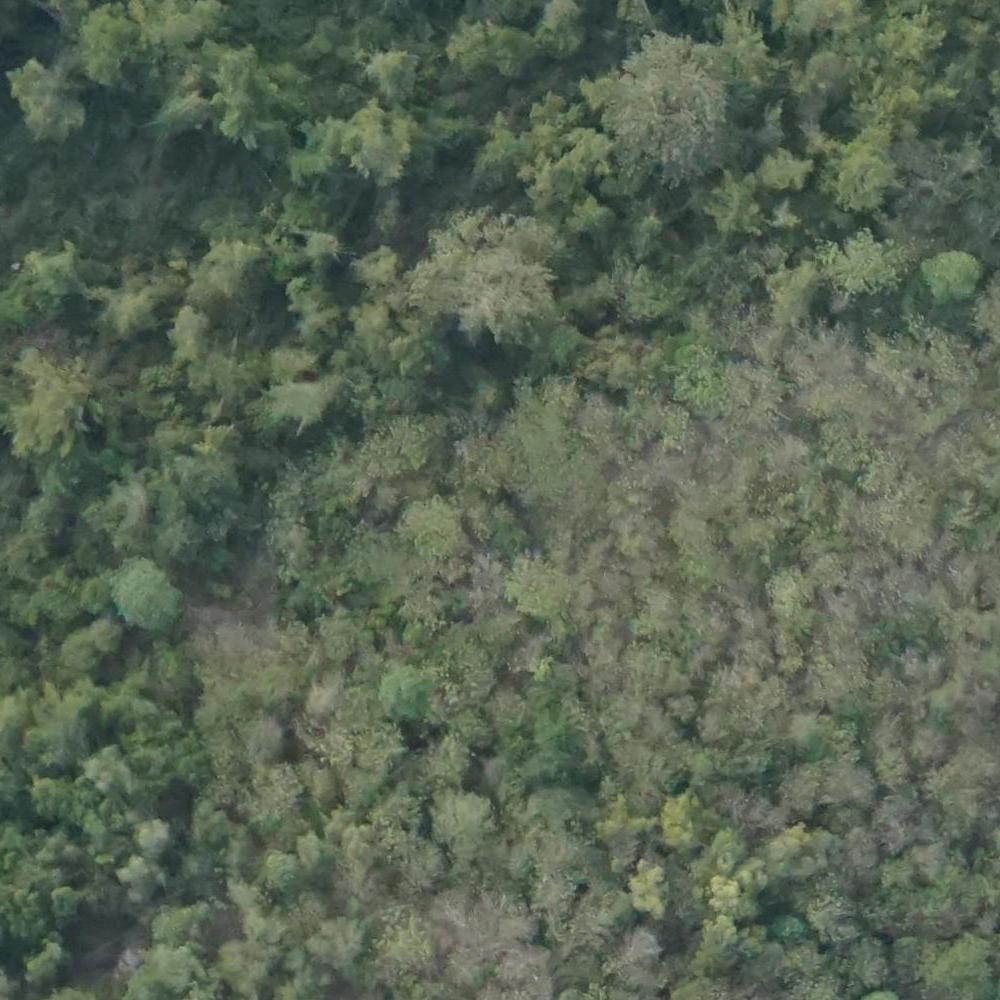tree: (412, 205, 566, 357), (592, 39, 742, 174), (181, 231, 276, 316), (108, 563, 183, 632), (506, 558, 572, 626), (375, 662, 438, 726), (31, 689, 89, 758), (915, 251, 982, 310), (433, 791, 494, 852), (764, 265, 831, 318), (839, 240, 896, 302), (662, 787, 709, 861), (404, 502, 464, 558), (15, 68, 73, 125), (810, 892, 867, 949), (598, 800, 656, 855), (630, 854, 677, 918), (79, 742, 133, 797), (770, 822, 819, 882), (873, 794, 925, 849), (365, 44, 418, 97), (905, 644, 956, 698), (107, 286, 160, 337), (311, 920, 360, 975), (838, 155, 899, 199), (424, 736, 472, 784), (240, 713, 289, 760), (380, 916, 426, 966), (263, 848, 303, 904), (758, 145, 805, 192), (158, 902, 206, 945), (713, 870, 756, 918), (21, 252, 70, 294), (27, 778, 74, 820), (770, 564, 808, 615), (314, 613, 362, 652), (119, 861, 164, 899), (788, 713, 825, 758), (156, 517, 193, 558), (622, 516, 661, 553), (301, 831, 338, 867)
